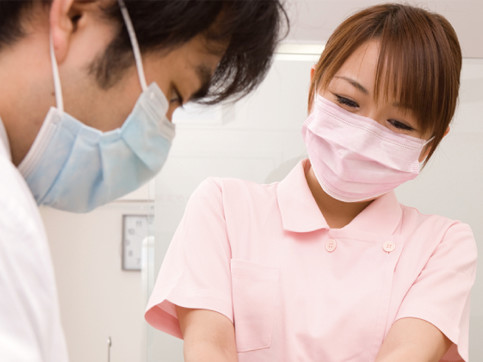mask: (22, 85, 178, 214), (303, 94, 424, 204)
